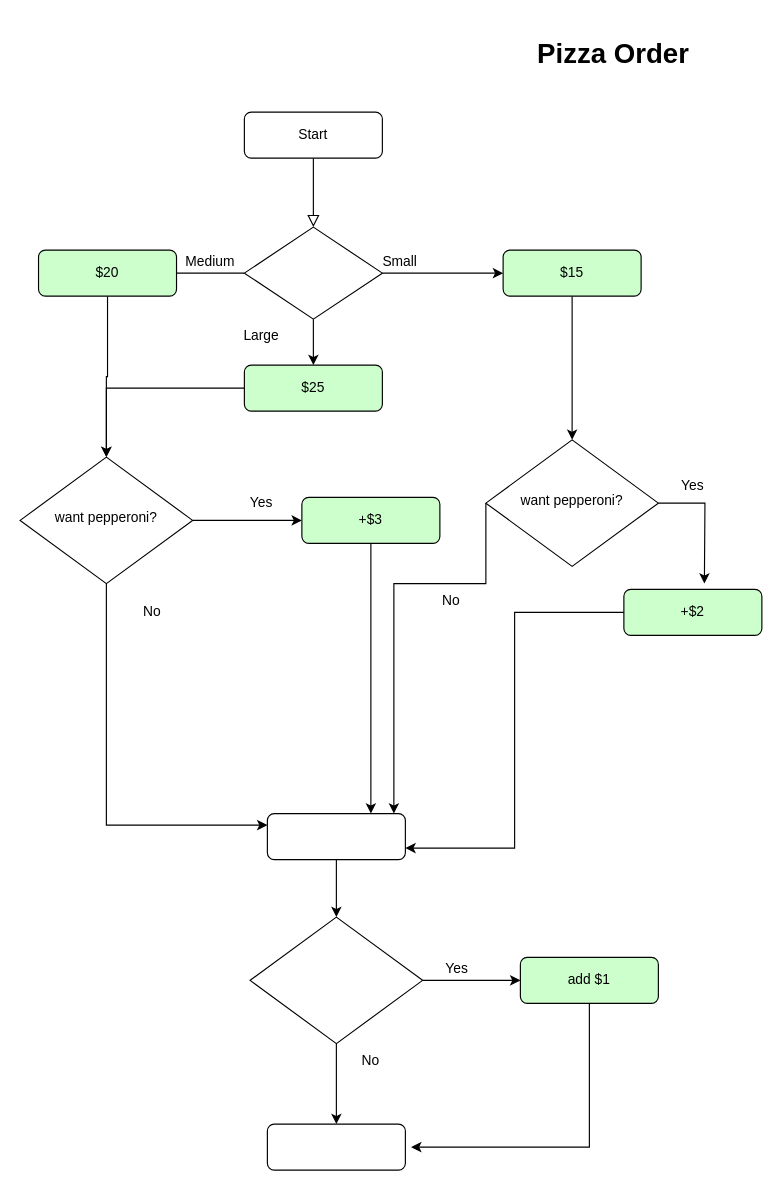
The diagram is 782 pixels wide and 1190 high, and some of its shapes have lost their labels. Here are the shapes that lost their labels. From the top down, the centre of each, then its label:
At point 312,272: "Size of pizza?".
At point 335,836: "Accumulated Bill".
At point 336,980: "want extra cheese?".
At point 335,1146: "Final Bill".
